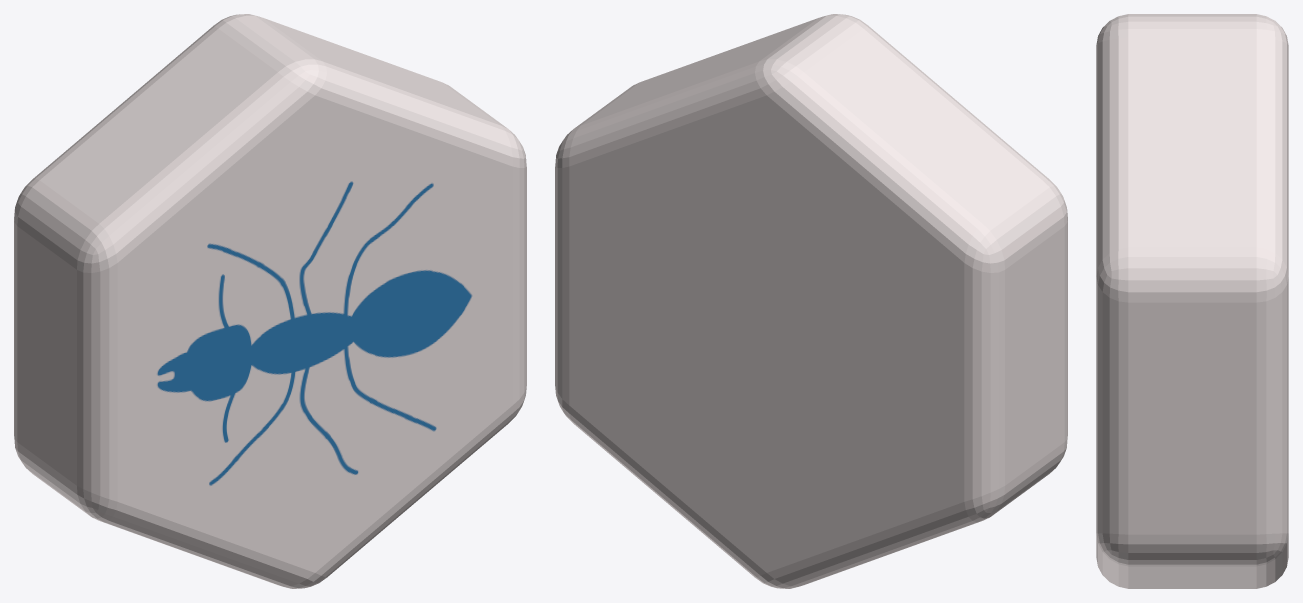
3 renders of one model, left to right at view 1: azimuth 30°, elevation 25°; view 2: azimuth 150°, elevation 25°; view 3: azimuth 270°, elevation 25°, orthographic. The views are drawn at different scales.
Visible parts, largest first — view 1: wA; view 2: wA; view 3: wA.
Part boxes in pixels (box(x1,y1,x2,y2)): wA: box(14, 14, 526, 588); wA: box(555, 14, 1067, 588); wA: box(1096, 14, 1288, 588).
Bounding box in the file's own units: 0.0866 × 0.0973 × 0.03.
1 material, 1 textured.
